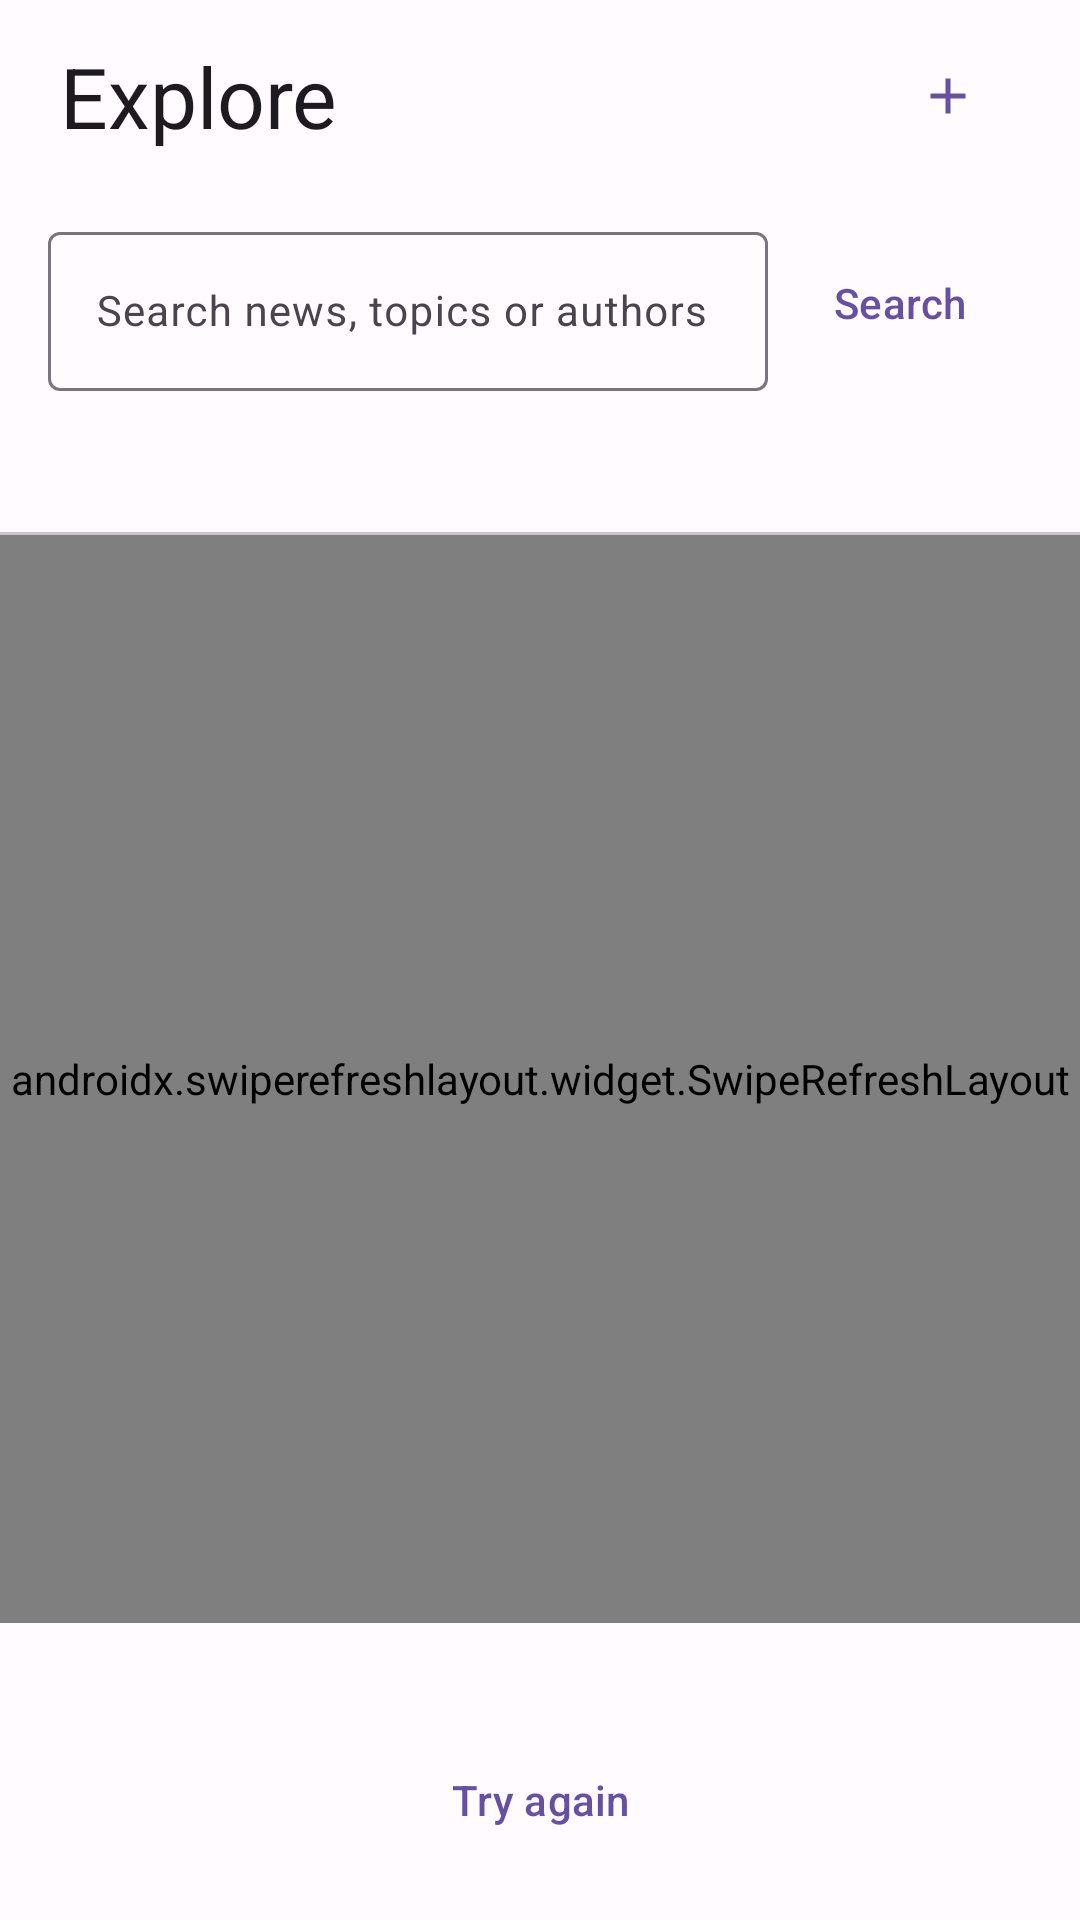

Where to tap for icons on this 1080px×1920px app screen, as point (x, y):
Create a post: point (948, 96)
